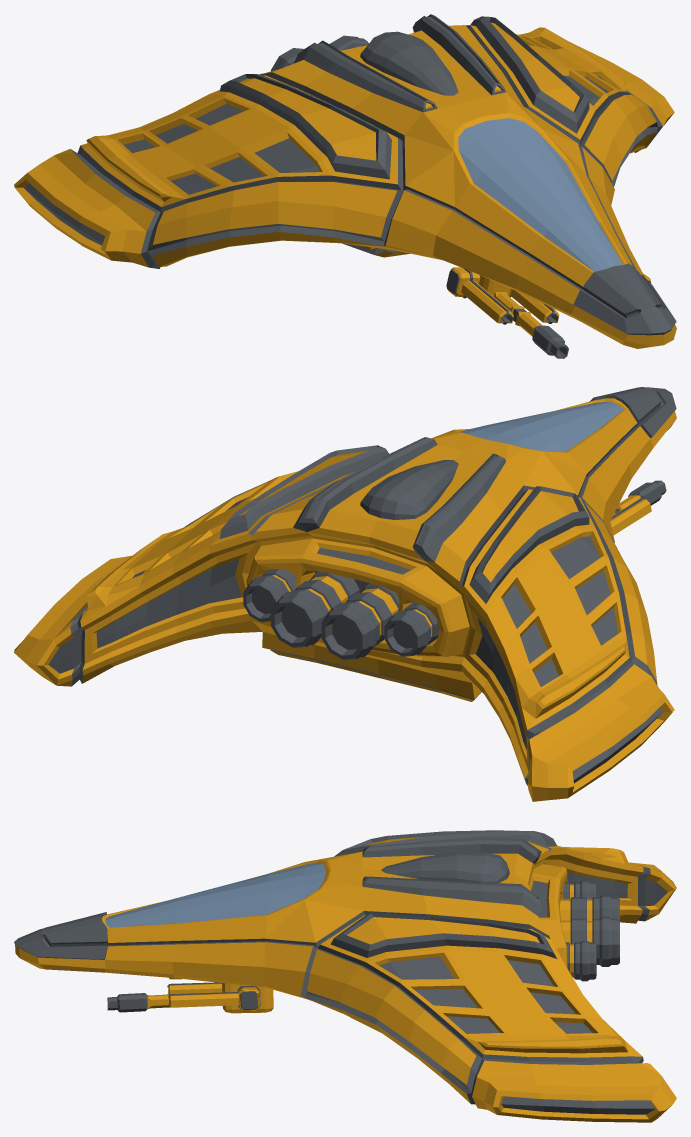
The model's file is Fighter_09_Yellow.fbx.
3 views of the same model, one above another, from view 1: azimuth 30°, elevation 25°; view 2: azimuth 150°, elevation 25°; view 3: azimuth 270°, elevation 25° (orthographic). The views are drawn at different scales.
Parts seen in each view (by area): view 1: Fighter_09_Yellow; view 2: Fighter_09_Yellow; view 3: Fighter_09_Yellow.
Part boxes in pixels (bbox=[...]): Fighter_09_Yellow: bbox=[14, 14, 676, 358]; Fighter_09_Yellow: bbox=[14, 387, 676, 801]; Fighter_09_Yellow: bbox=[14, 830, 676, 1122].
Size of the model in its own units: 1089 by 343 by 1256.
3 materials, 3 textured.
